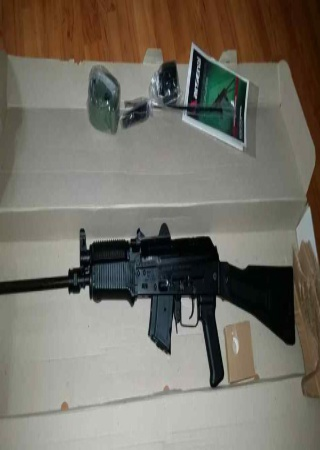rifle: (4, 226, 298, 389)
